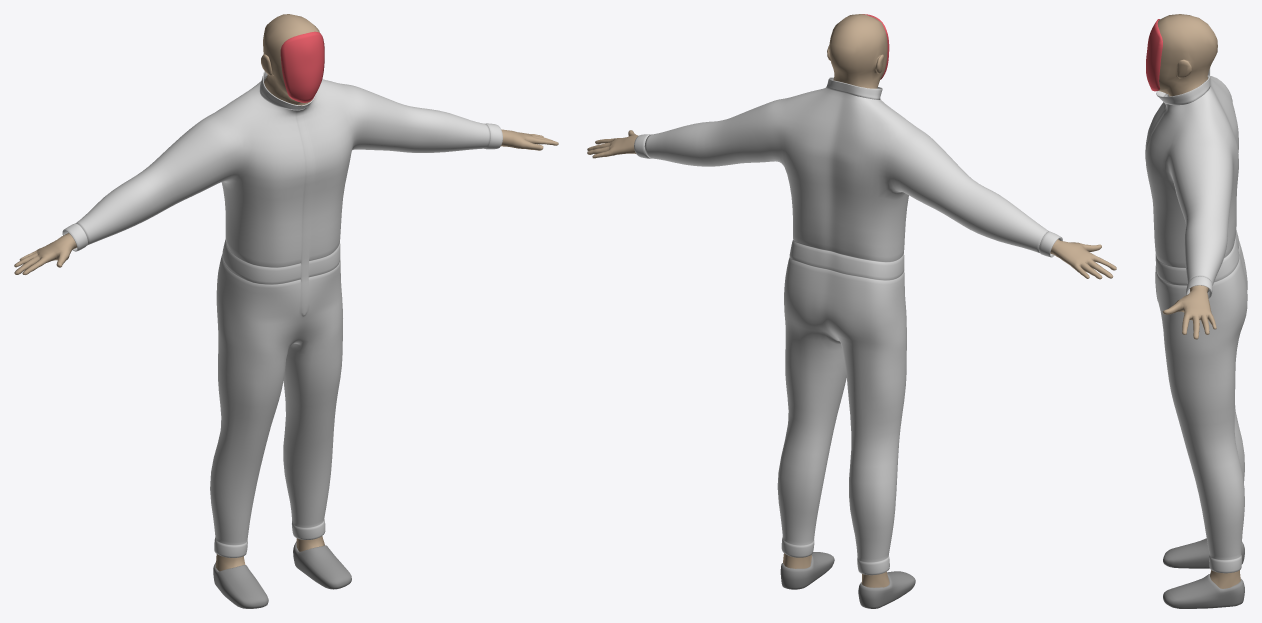
Rendered from Adam_Mascara_Macacao.fbx.
3 renders of one model, left to right at view 1: azimuth 30°, elevation 25°; view 2: azimuth 150°, elevation 25°; view 3: azimuth 270°, elevation 25°, orthographic. The views are drawn at different scales.
Visible parts, largest first — view 1: Adam_Macacao; view 2: Adam_Macacao; view 3: Adam_Macacao.
Part boxes in pixels (bbox=[...]): Adam_Macacao: bbox=[14, 14, 558, 608]; Adam_Macacao: bbox=[587, 14, 1116, 608]; Adam_Macacao: bbox=[1145, 14, 1247, 608].
Size of the model in its own units: 177 by 180 by 29.52.
